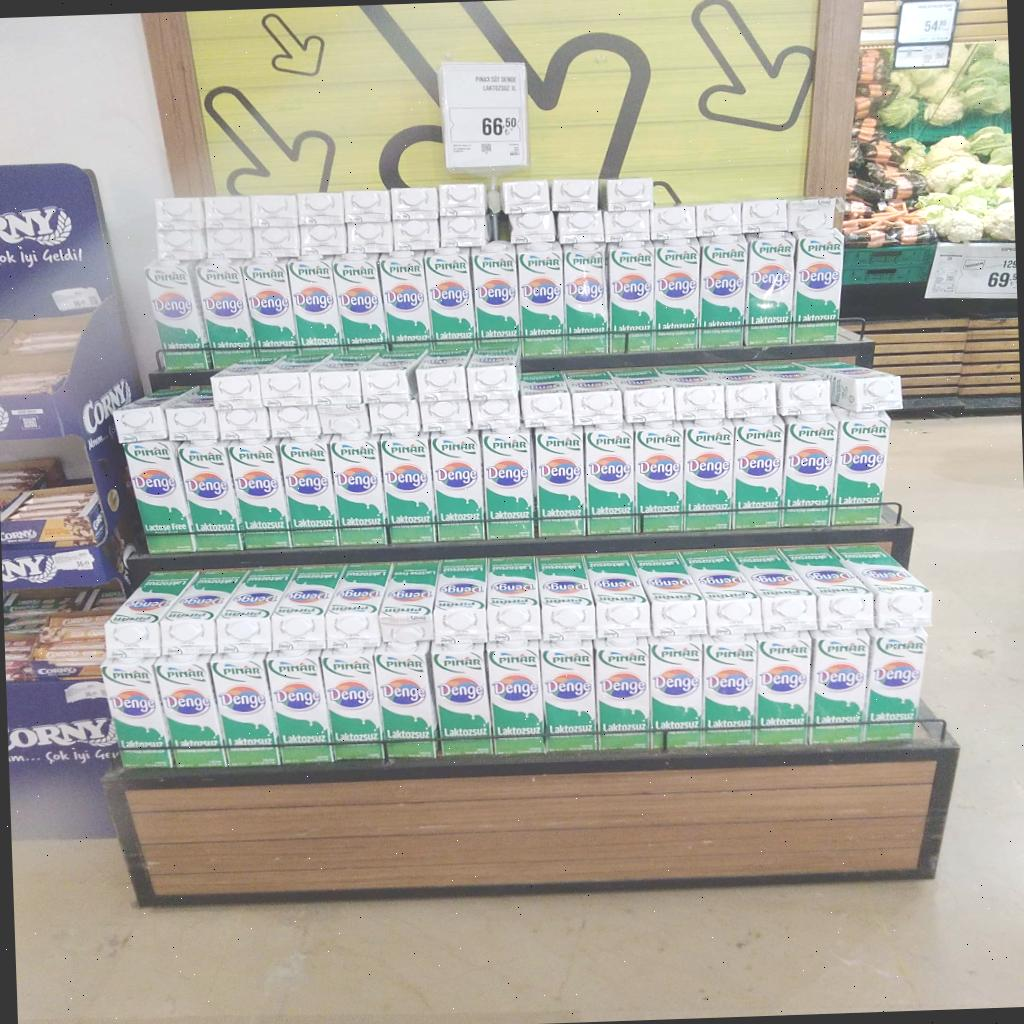price_tag: (440, 63, 527, 169)
product: (153, 657, 227, 767), (102, 658, 175, 767), (124, 439, 194, 552), (208, 655, 279, 765), (373, 641, 437, 757), (265, 652, 332, 762), (319, 648, 383, 759), (226, 439, 291, 548), (865, 627, 926, 741), (809, 629, 869, 743), (178, 442, 241, 550), (832, 406, 889, 524), (279, 437, 340, 546), (431, 644, 491, 754), (540, 641, 599, 751), (754, 631, 811, 743), (487, 641, 543, 753), (781, 412, 836, 525), (532, 425, 587, 535), (582, 423, 637, 533), (595, 637, 650, 747), (329, 434, 385, 542), (379, 435, 436, 540), (702, 637, 757, 745), (429, 432, 484, 539), (648, 639, 703, 746), (731, 415, 783, 528), (480, 431, 535, 537), (682, 418, 734, 529), (633, 419, 683, 530), (194, 258, 254, 348), (746, 232, 794, 341), (241, 257, 297, 347), (422, 247, 475, 342), (145, 257, 202, 345), (652, 239, 699, 344), (377, 252, 431, 343), (332, 255, 387, 344), (287, 257, 341, 347), (794, 228, 843, 324), (517, 244, 563, 345), (472, 241, 519, 338), (700, 235, 746, 329), (606, 242, 654, 330), (562, 244, 607, 337), (704, 335, 735, 345)
